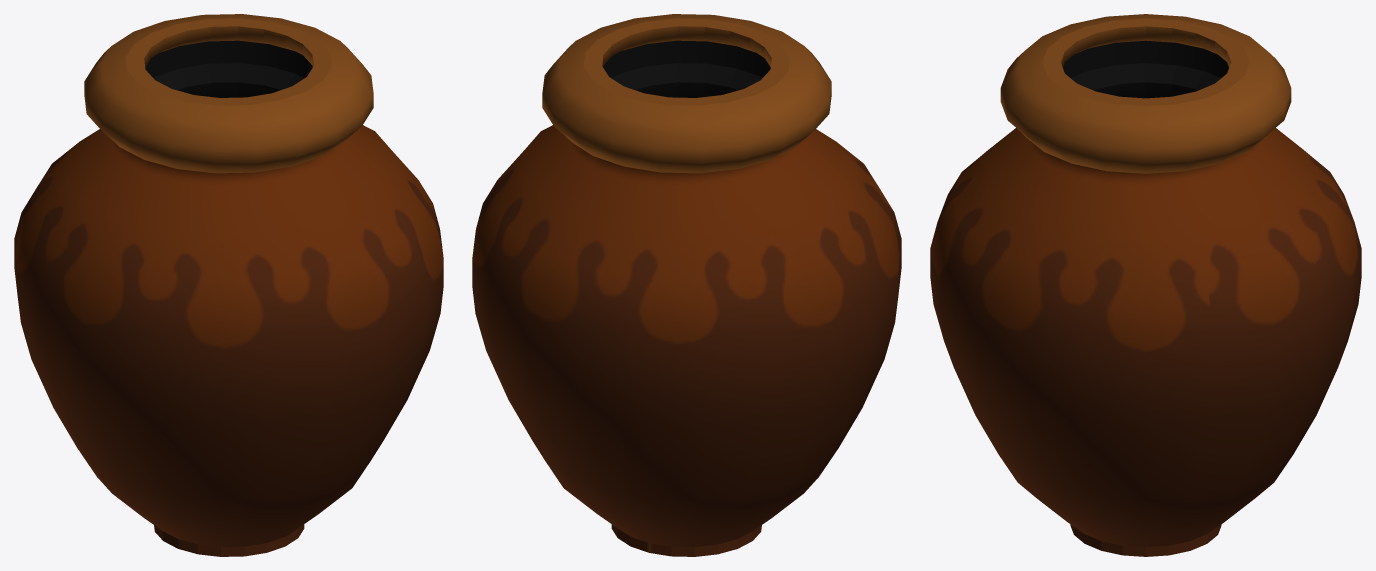
The model's file is Jarron3.obj.
The picture shows the model from 3 angles, left to right: view 1: azimuth 30°, elevation 25°; view 2: azimuth 150°, elevation 25°; view 3: azimuth 270°, elevation 25°; orthographic projection.
Visible parts, largest first — view 1: Jarron_pCylinder3; view 2: Jarron_pCylinder3; view 3: Jarron_pCylinder3.
Part boxes in pixels (box(x1,y1,x2,y2)): Jarron_pCylinder3: box(14, 14, 443, 556); Jarron_pCylinder3: box(472, 14, 901, 556); Jarron_pCylinder3: box(930, 14, 1361, 556).
Bounding box in the file's own units: 0.7378 × 0.8733 × 0.7378.
Materials: 1 (1 with a texture image).
